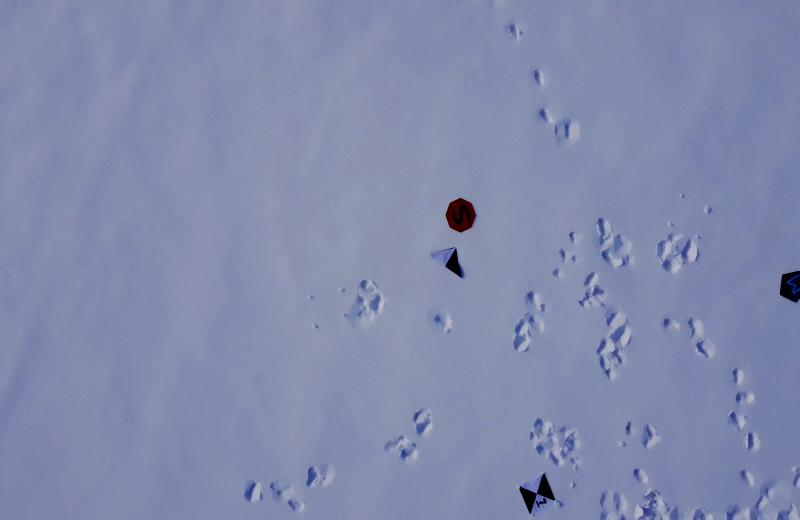Octagon: (442, 195, 479, 236)
Pentagon: (775, 267, 800, 304)
